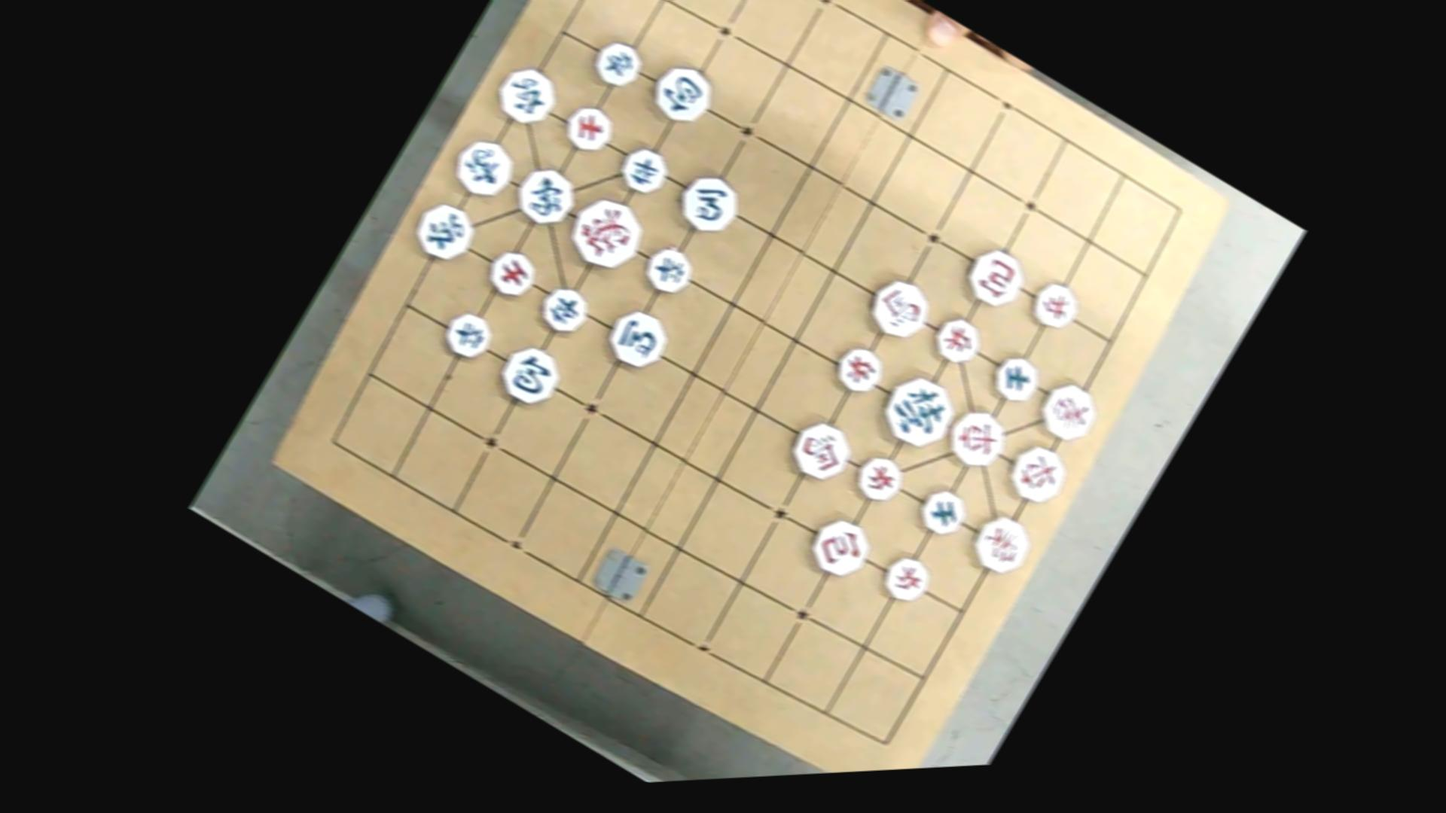cha_green: (487, 56, 566, 136), (405, 193, 484, 269)
cha_red: (935, 395, 1016, 478), (999, 435, 1076, 514)
jol_green: (532, 276, 599, 343), (636, 237, 703, 303), (610, 138, 676, 204), (435, 303, 500, 368), (584, 31, 649, 96)
jol_red: (825, 336, 892, 403), (847, 445, 912, 511), (874, 547, 938, 612), (923, 308, 987, 373), (1023, 274, 1087, 338)
ma_green: (597, 298, 677, 379), (670, 166, 749, 245)
ma_red: (860, 266, 941, 347), (781, 415, 859, 495)
po_green: (642, 53, 724, 133), (492, 338, 569, 416)
po_red: (799, 505, 877, 584), (956, 239, 1034, 317)
sa_green: (982, 345, 1046, 409), (911, 481, 975, 544)
sa_red: (480, 242, 545, 308), (557, 96, 621, 161)
sang_green: (444, 128, 523, 207), (508, 157, 586, 236)
sang_red: (959, 504, 1042, 586), (1031, 374, 1108, 449)
wang_green: (872, 361, 969, 458)
wang_red: (557, 183, 657, 283)
